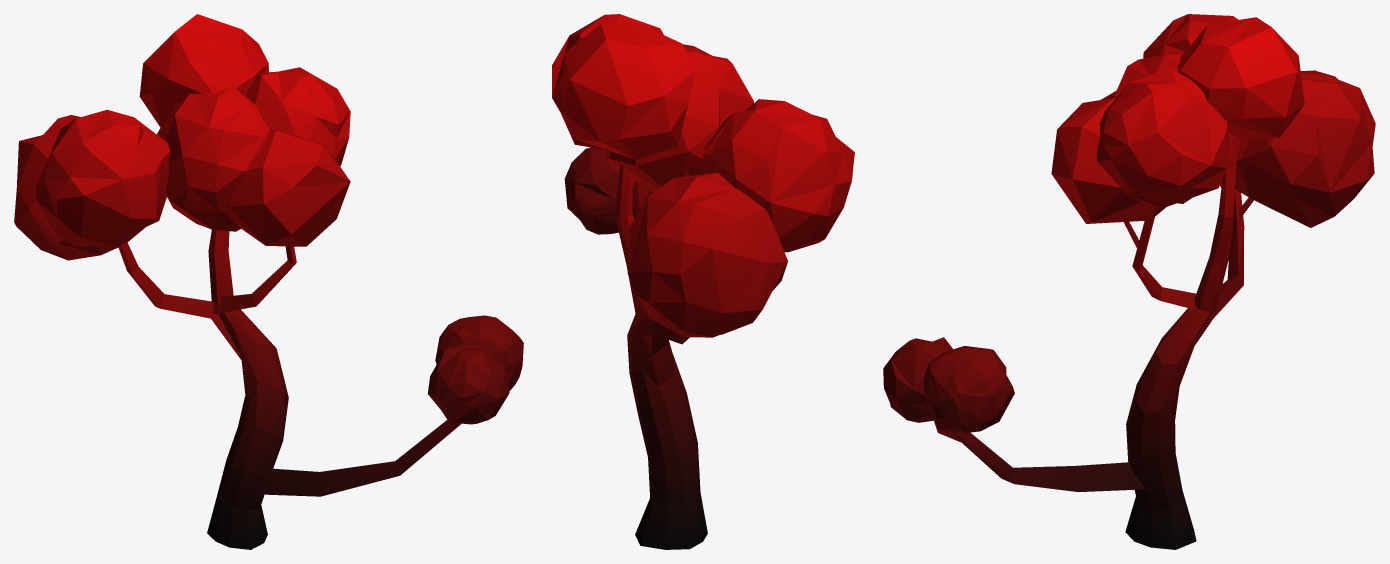
The model's file is TreeBent06.fbx.
The picture shows the model from 3 angles, left to right: view 1: azimuth 30°, elevation 25°; view 2: azimuth 150°, elevation 25°; view 3: azimuth 270°, elevation 25°; orthographic projection. The views are drawn at different scales.
Visible parts, largest first — view 1: TreeBent06_LOD0; view 2: TreeBent06_LOD0; view 3: TreeBent06_LOD0.
Part boxes in pixels (x1,y1,x2,y2): TreeBent06_LOD0: [14, 14, 523, 549]; TreeBent06_LOD0: [552, 14, 854, 549]; TreeBent06_LOD0: [883, 14, 1375, 549].
Size of what is drawn, in the model's own units: 846 by 1091 by 949.
